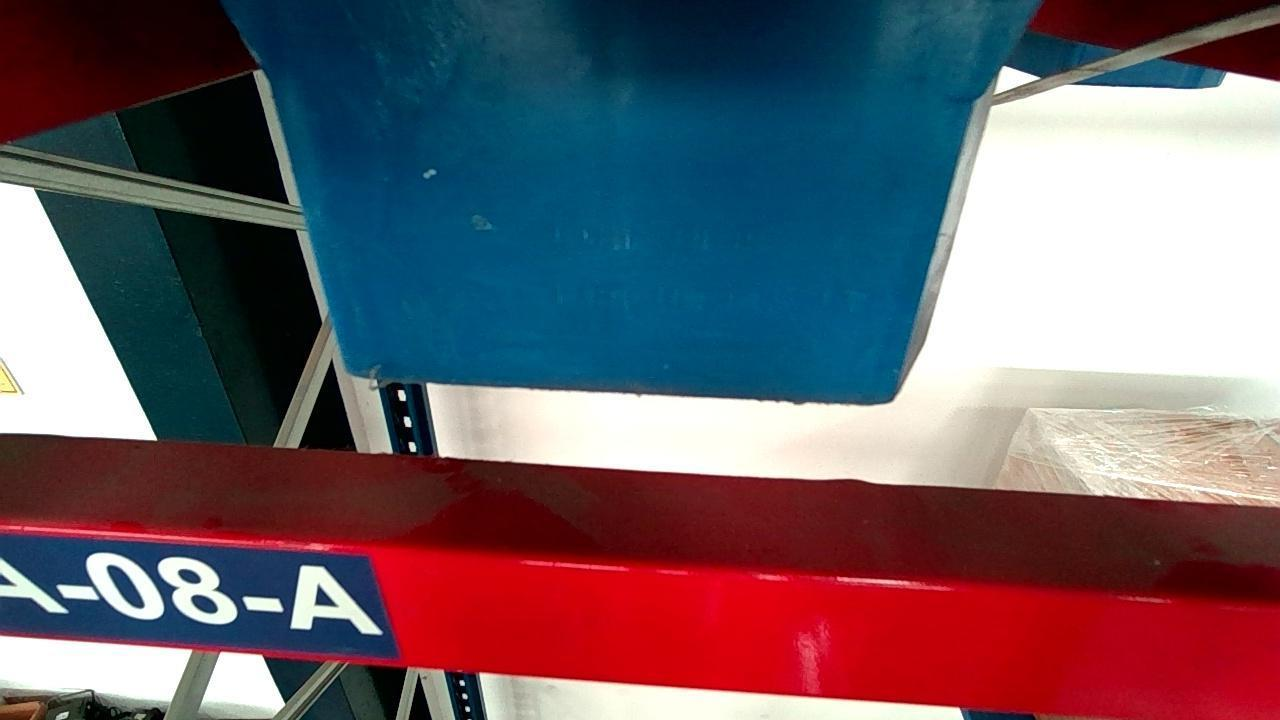h_rack: (0, 523, 1278, 720)
